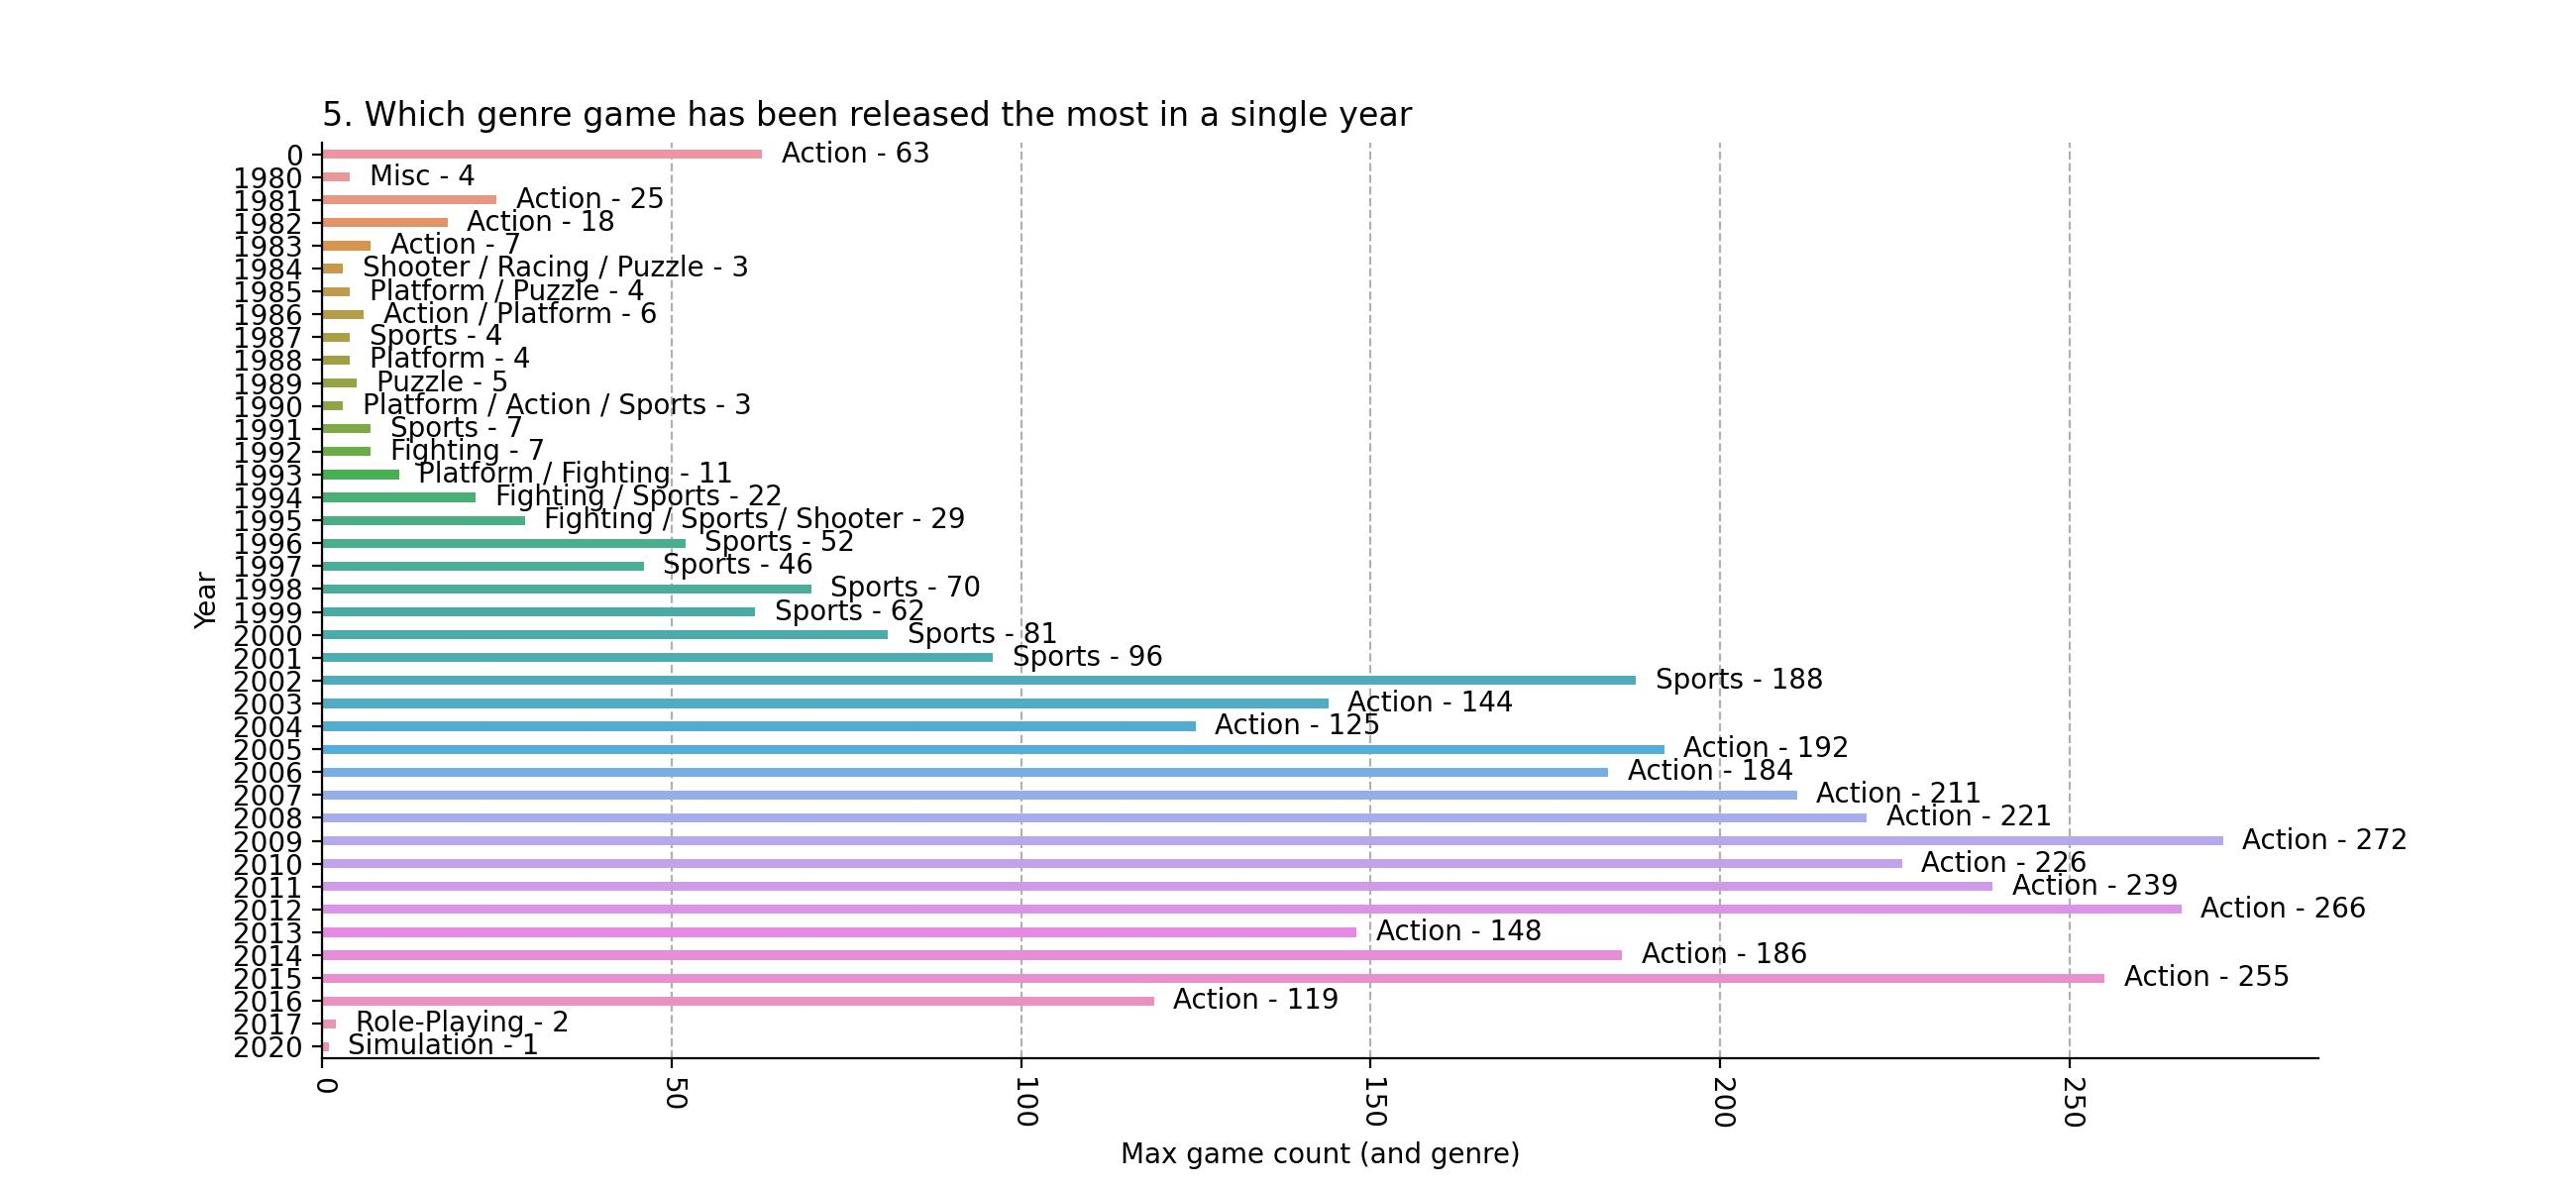

This screenshot's page, from the dashboard's own definition file:
{"tool":"tableau","page":{"name":"Dashboard 5","canvas":[1000,1000],"units":"permille","ordinal":4},"visuals":[{"type":"worksheet","title":"05gamesgenreyear","mark":"Automatic","rows":["F4"],"cols":["F5","Number of Records"],"box":[6.9,12.8,986.1,974.4]}]}

Visuals, with their boxes on the dashboard's canvas, which has no fixed pixel size, in thousandths of its width and height (x1, y1, x2, y2). These are canvas units, not pixel positions in the 2576x1189 screenshot, which may show the page scaled, cropped or inside an application window:
"05gamesgenreyear" worksheet: 7/13/993/987
